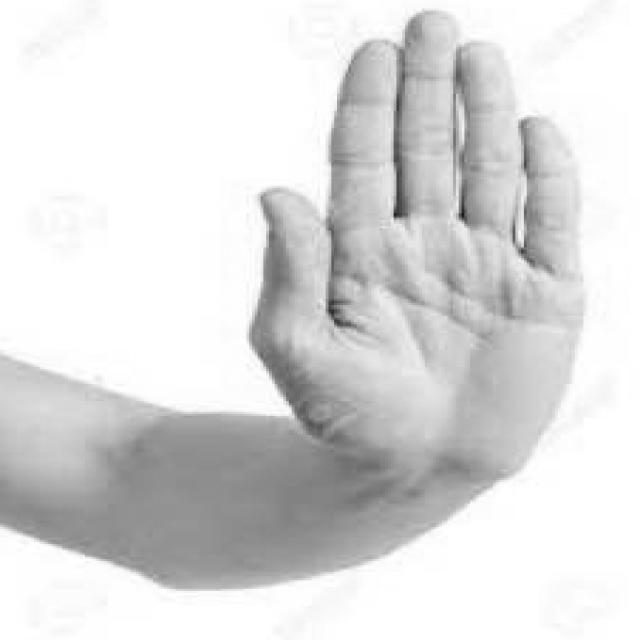stop: (238, 0, 592, 491)
